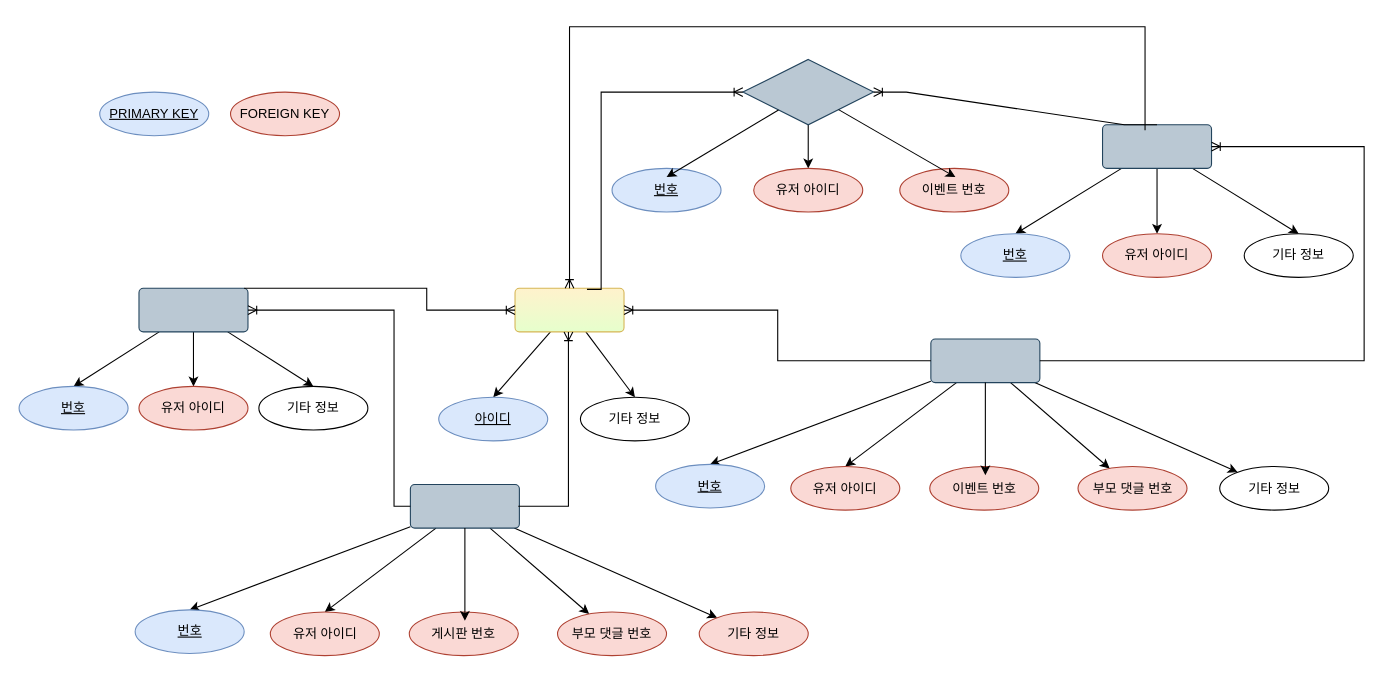
The diagram is 1392 pixels wide and 675 high, and some of its shapes have lost their labels. Here are the shapes that lost their labels. From the top down, the box of each, then its label:
(742, 58, 874, 125): 북마크
(1101, 124, 1212, 168): 이벤트
(138, 287, 248, 332): 게시판
(514, 287, 624, 332): 유저
(930, 338, 1040, 383): 이벤트 댓글
(409, 483, 519, 528): 게시판 댓글
